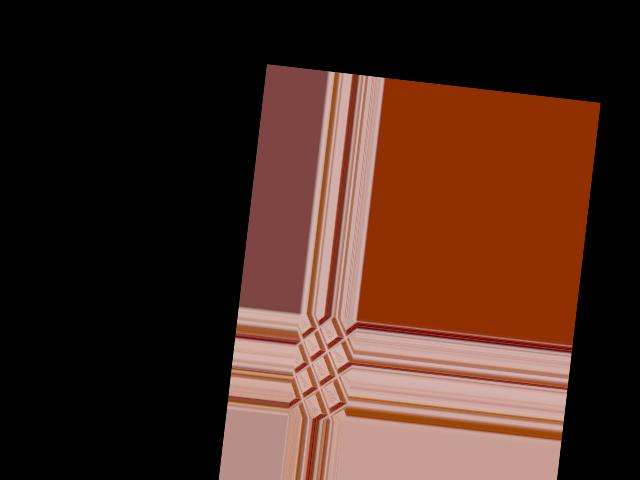chocolate: (289, 316, 357, 422)
